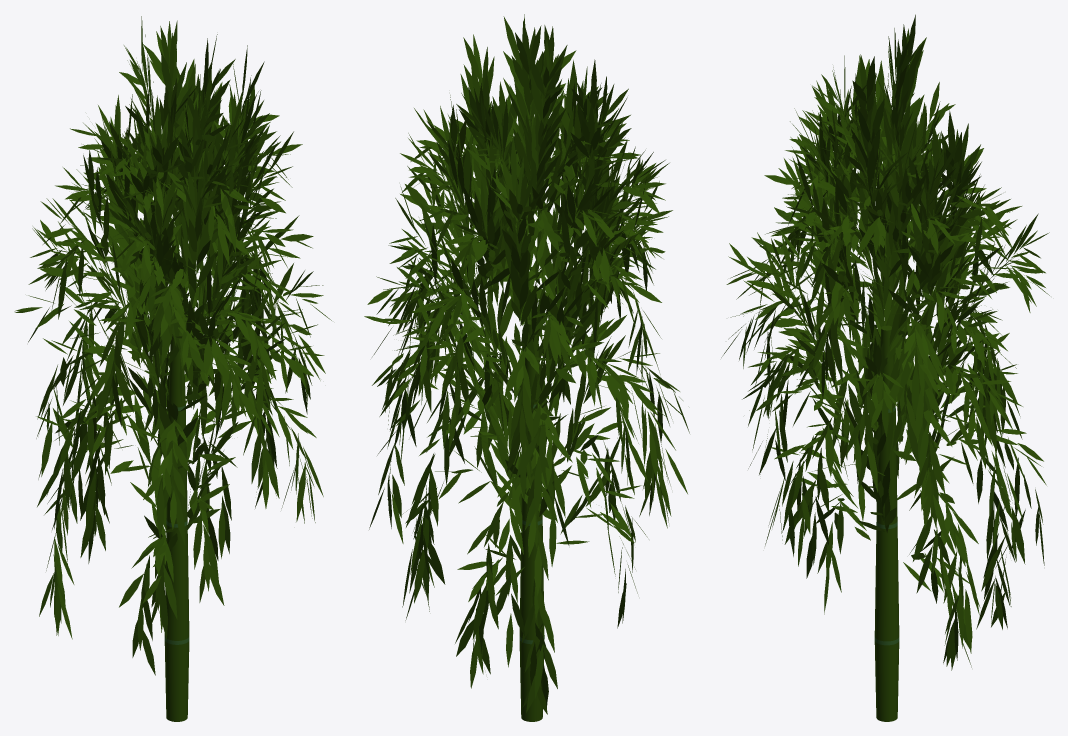
Rendered from Bamboo.fbx.
3 renders of one model, left to right at view 1: azimuth 30°, elevation 25°; view 2: azimuth 150°, elevation 25°; view 3: azimuth 270°, elevation 25°, orthographic.
Visible parts, largest first — view 1: leaves.001; view 2: leaves.001; view 3: leaves.001.
Part boxes in pixels (left/top/right/bottom): leaves.001: left=14, top=16, right=331, bottom=721; leaves.001: left=364, top=14, right=689, bottom=721; leaves.001: left=721, top=14, right=1049, bottom=721.
Size of the model in its own units: 392 by 880 by 384.
